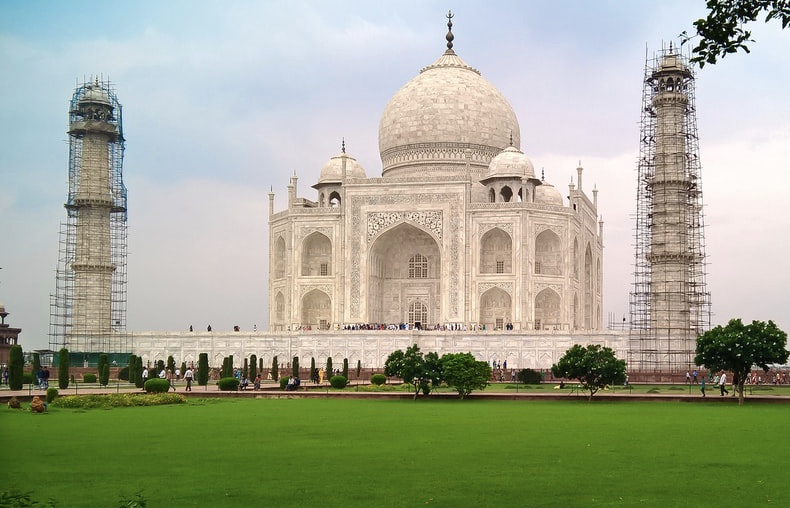Mosque: (46, 13, 734, 369)
